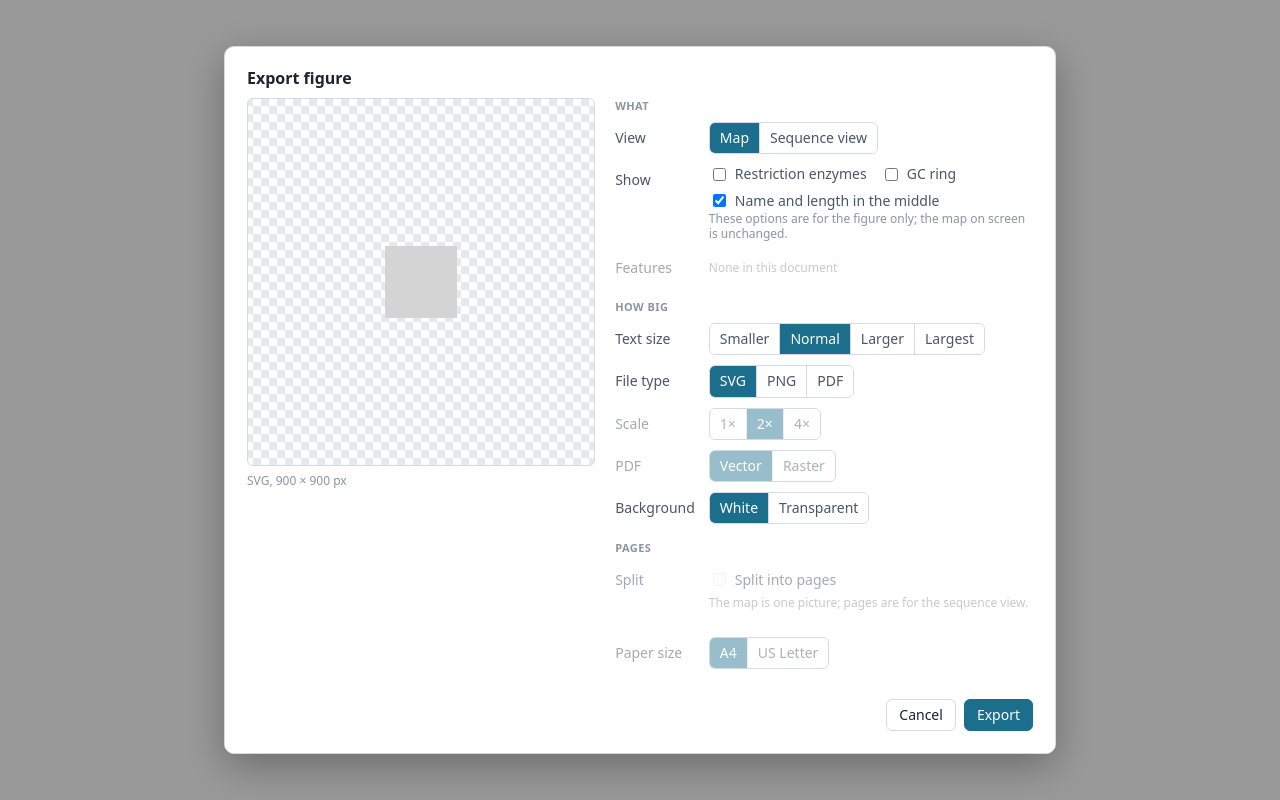
Test case: ExportFigureDialog (#240) › sequence view (#30) › refuses a raster PDF whose pages are too many pixels, saying what to change (#246)
This screenshot has width=1280, height=800.
Click the radio button labelled "Sequence view". click: (818, 138)
box: [759, 123, 877, 153]
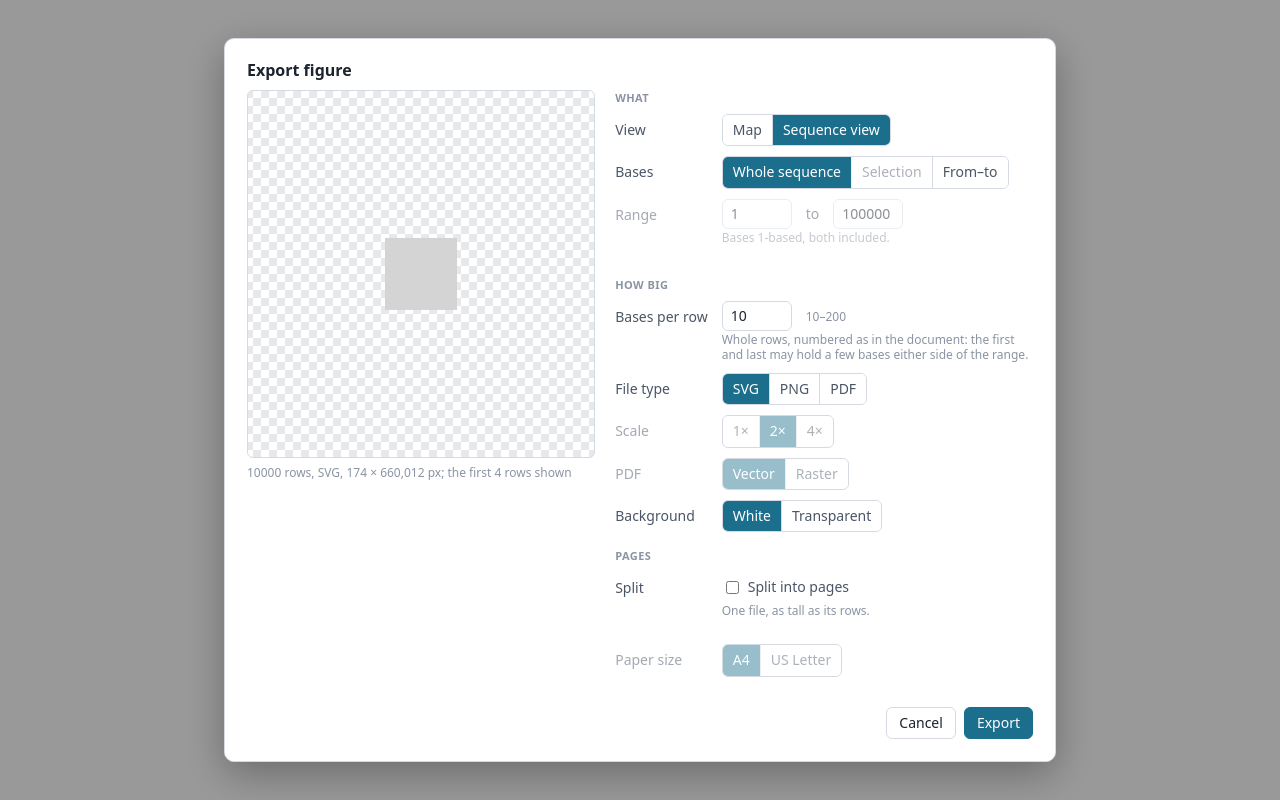
Click the checkbox labelled "Split into pages". click: (732, 588)
box: [726, 581, 739, 594]
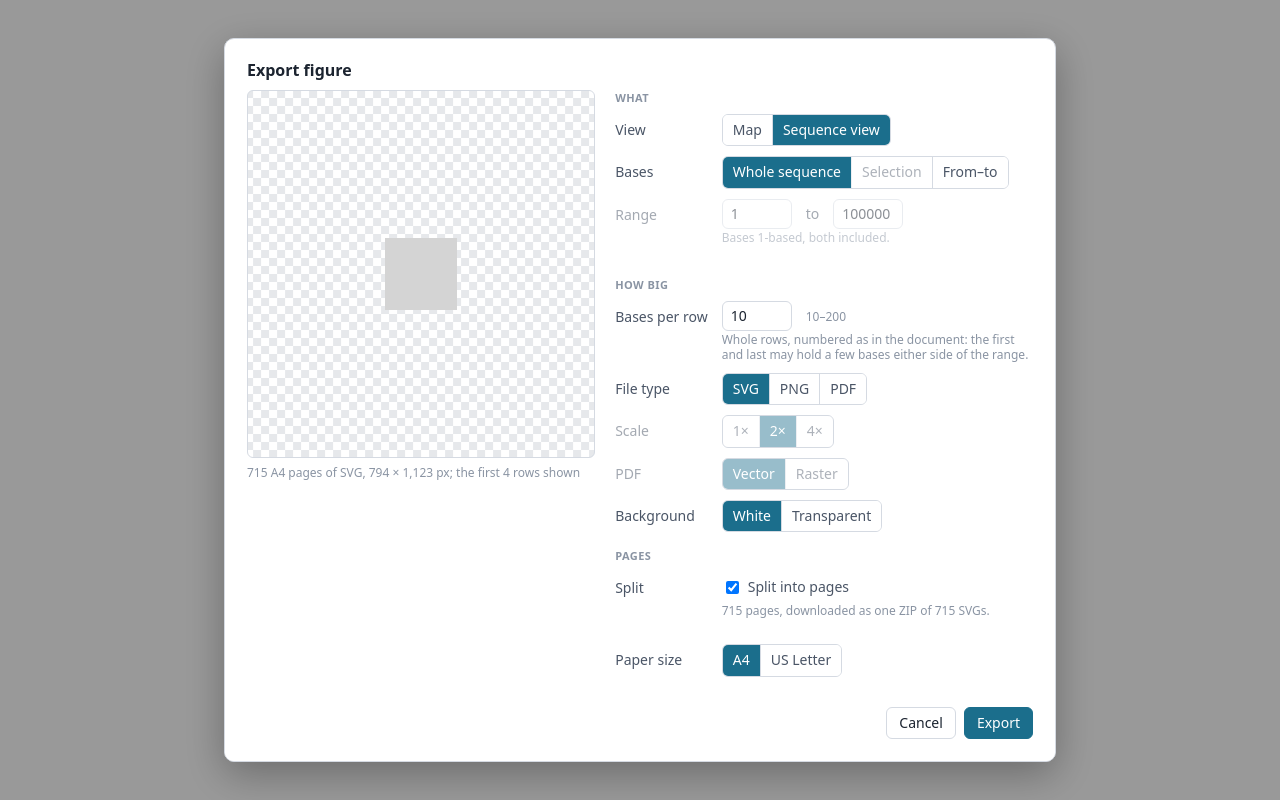
Click the radio button labelled "PDF". click: (843, 389)
box: [819, 374, 866, 404]
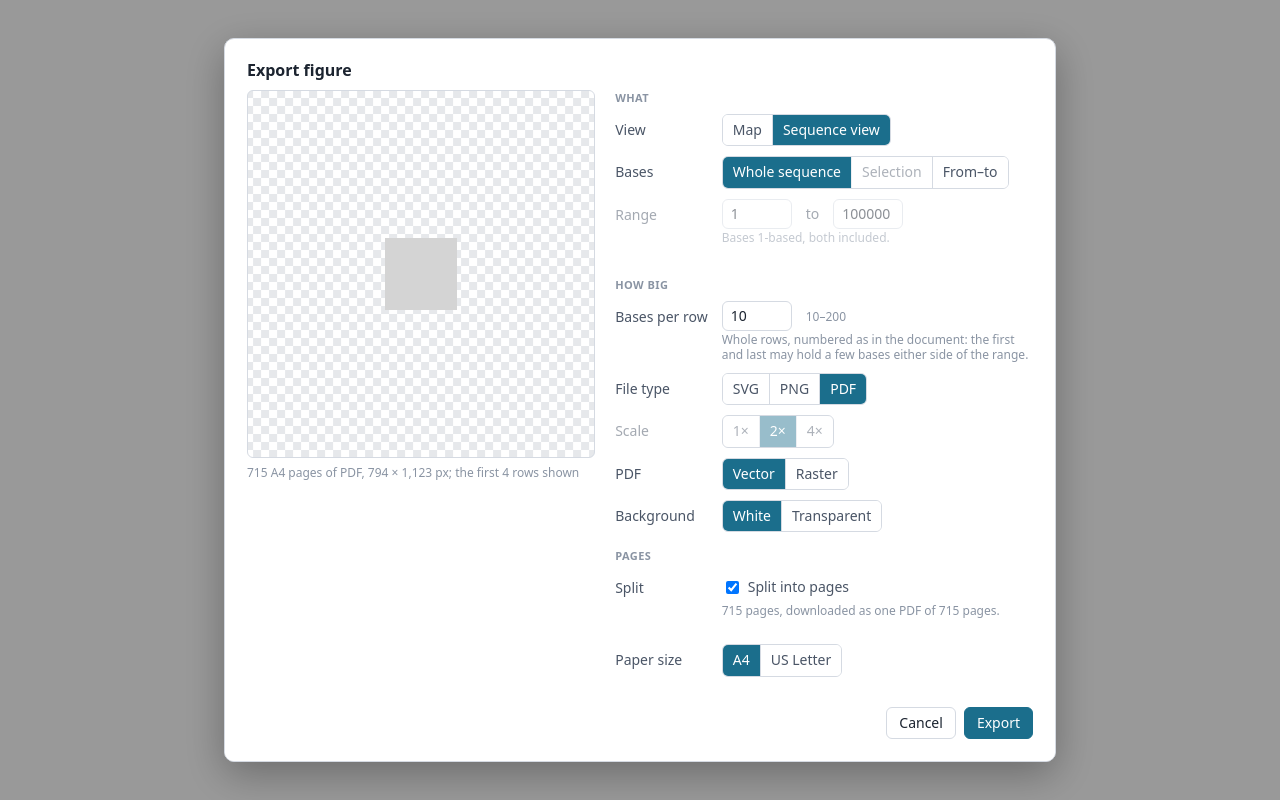
Click the radio button labelled "Raster". click: (816, 474)
box: [785, 459, 848, 489]
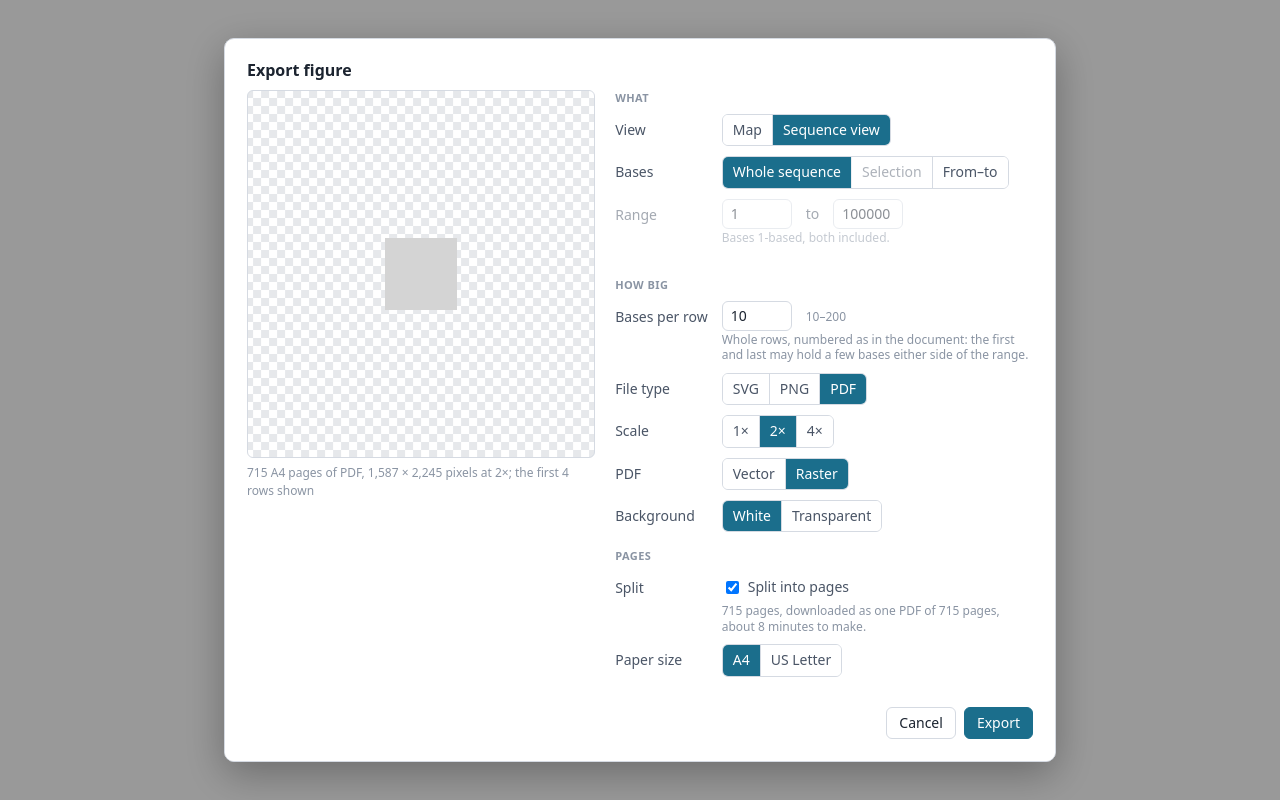
Click the radio button labelled "4×". click: (814, 431)
box: [796, 416, 833, 447]
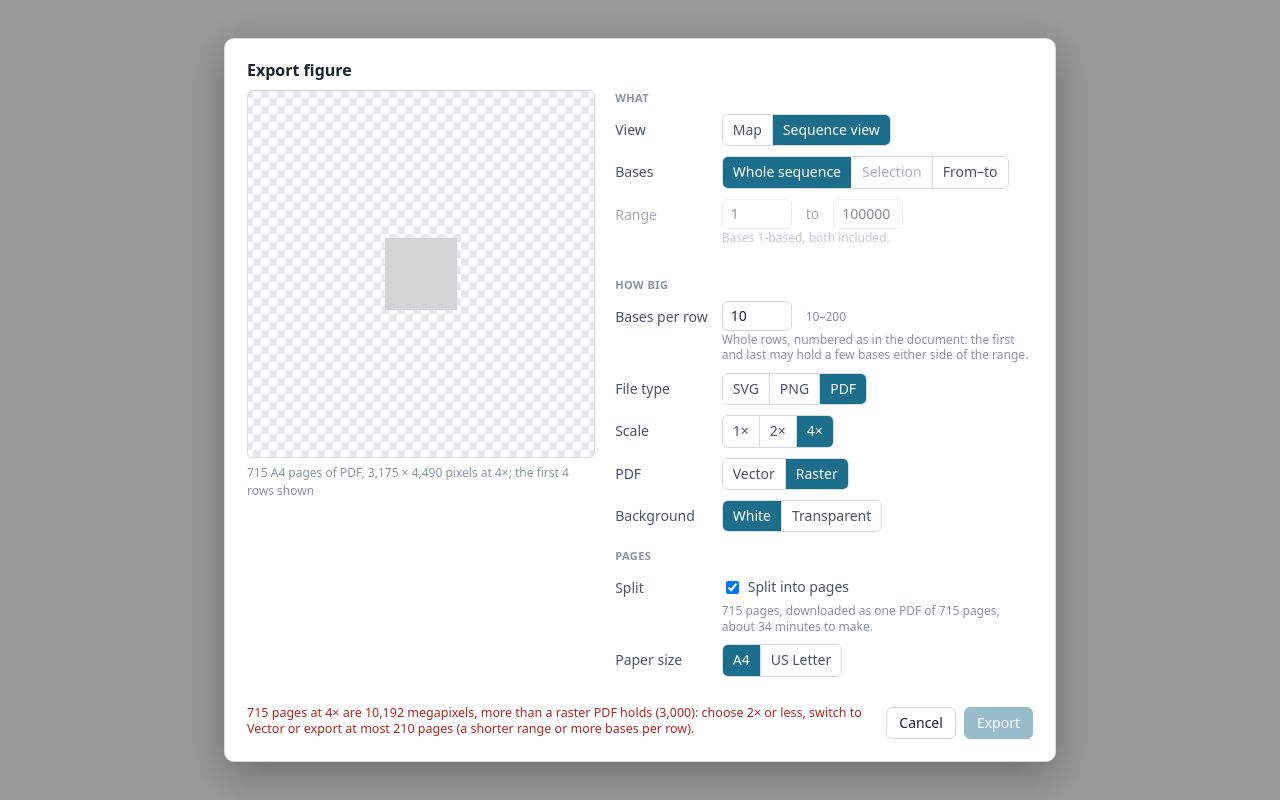
Check: the message shows "megapixels, more than a raster PDF holds (3,000)", box [247, 704, 862, 737]
Check: the message shows "choose 2× or less", box [247, 704, 862, 737]
Check: the button "Export" is disabled, box [964, 707, 1033, 739]
Click the radio button labelled "Vector". click: (754, 474)
box: [723, 459, 785, 489]
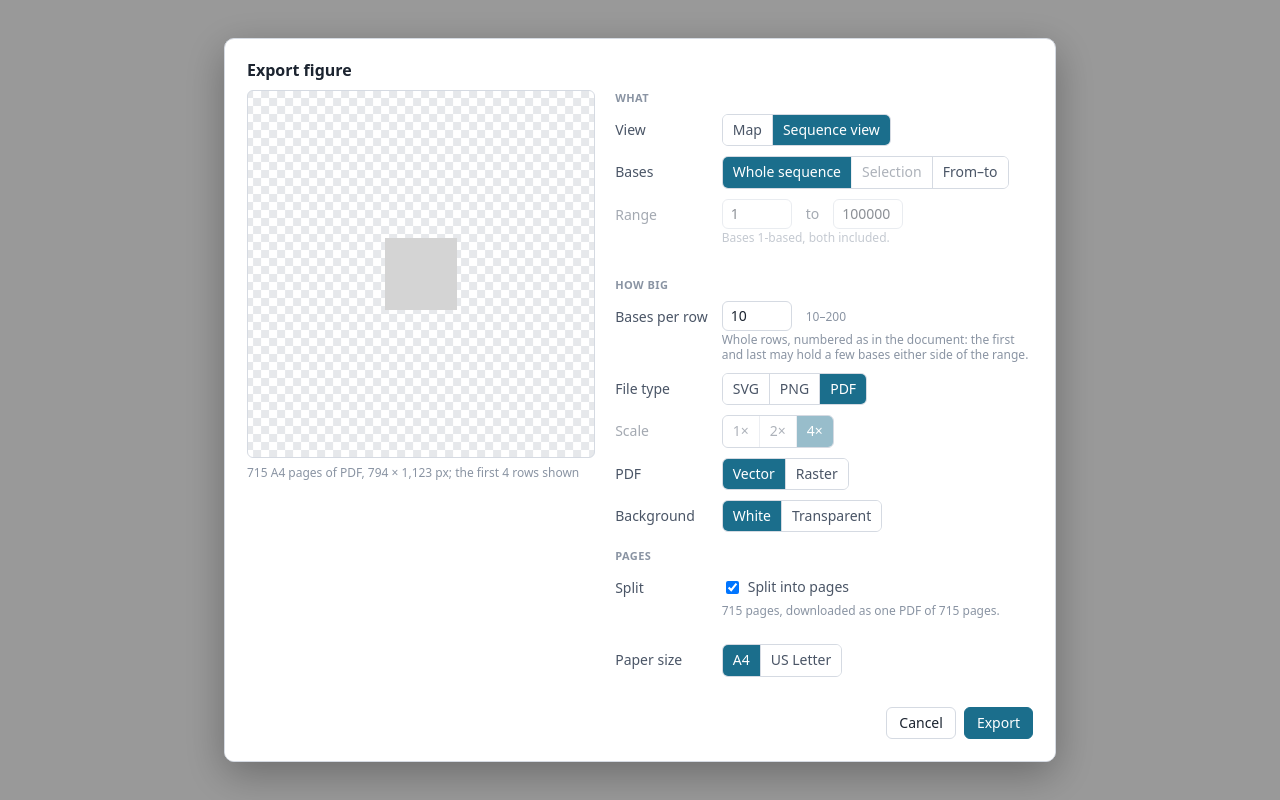
Check: the button "Export" is enabled, box [964, 707, 1033, 739]
